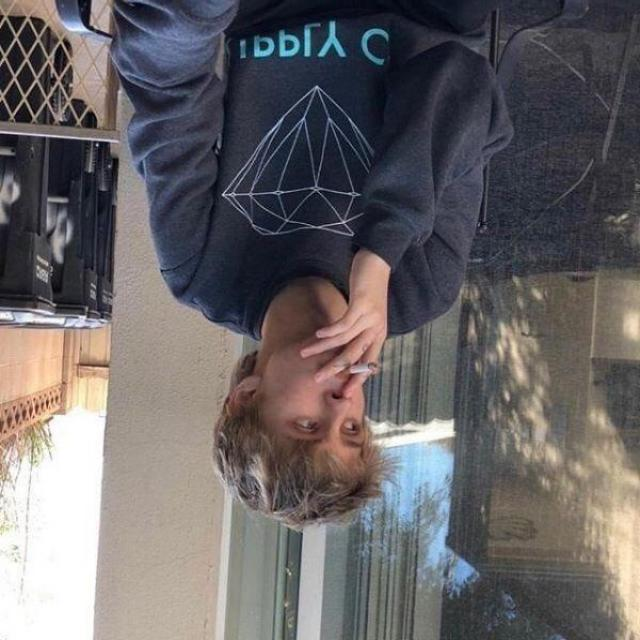cigarette: (322, 356, 389, 392)
